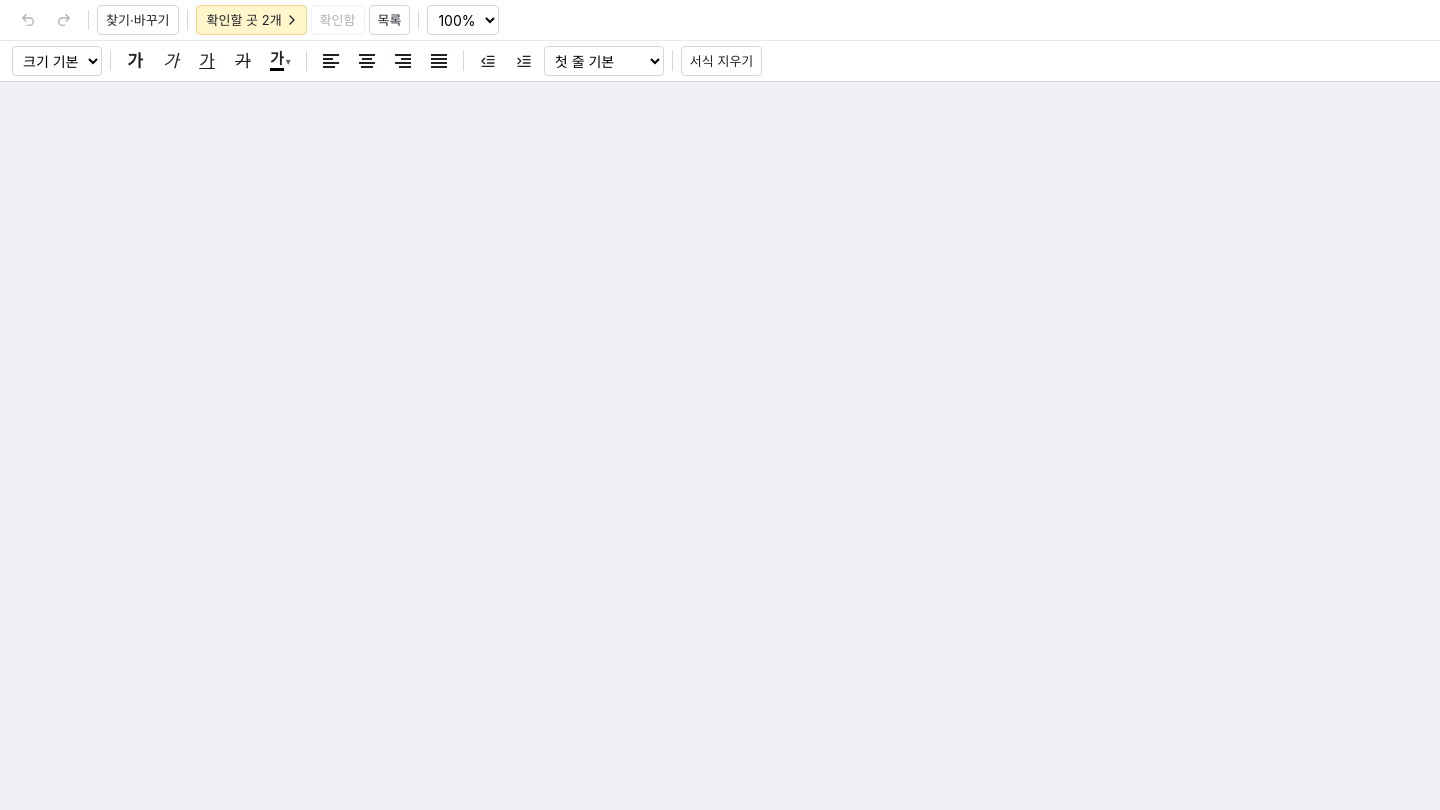
Test: 도구 막대: 확인할 곳 › 목록은 곳마다 문항 번호와 앞뒤 글을 보이고, 모두 확인함을 누르면 단추가 사라진다
Click the button "목록".
click(389, 20)  # box [368,5,410,35]
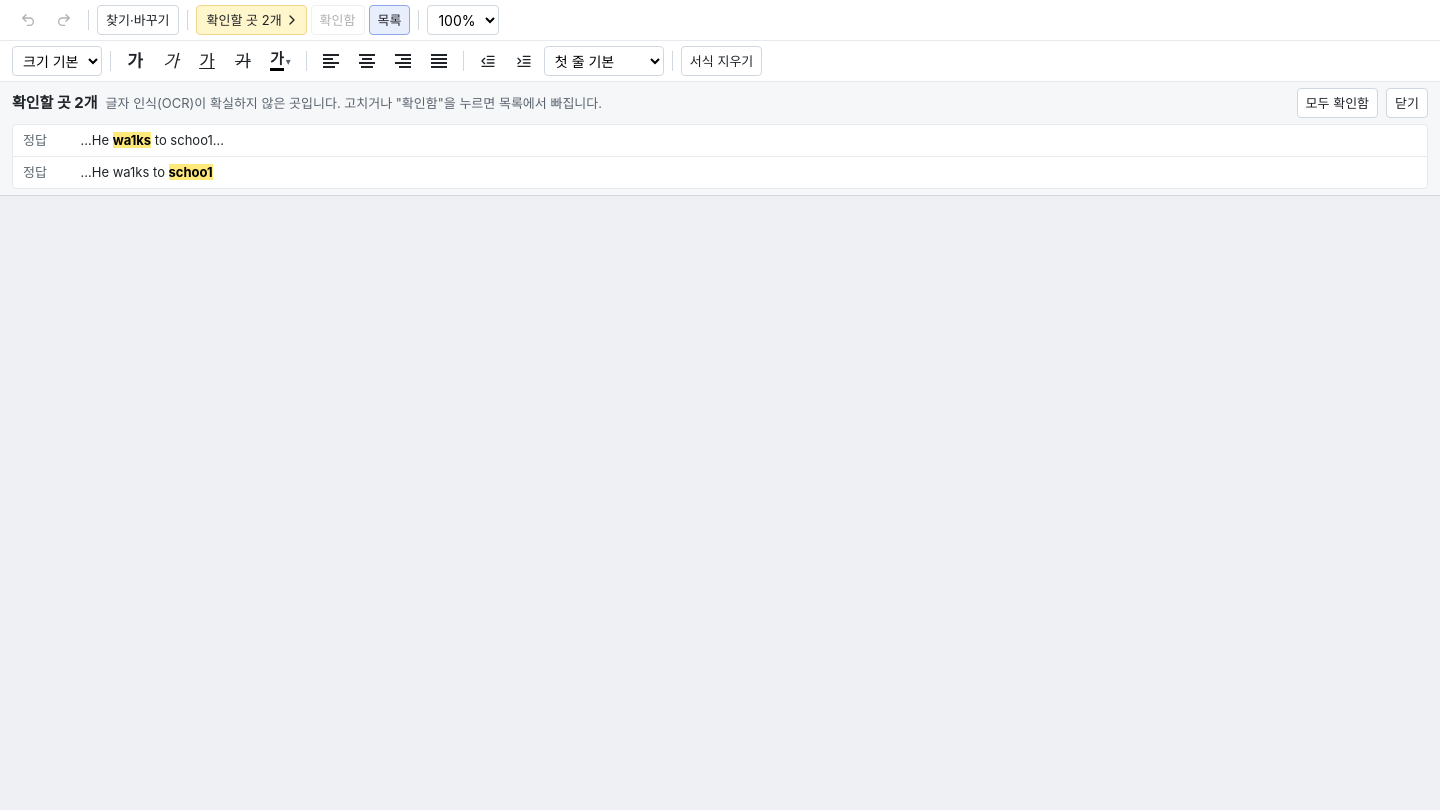
Expected: the text "wa1ks" is shown, [113,132,151,148]
Expected: the text "확인할 곳 2개" is shown, [12,91,98,115]
Click the button "모두 확인함".
click(1337, 103)  # box [1297,88,1378,118]
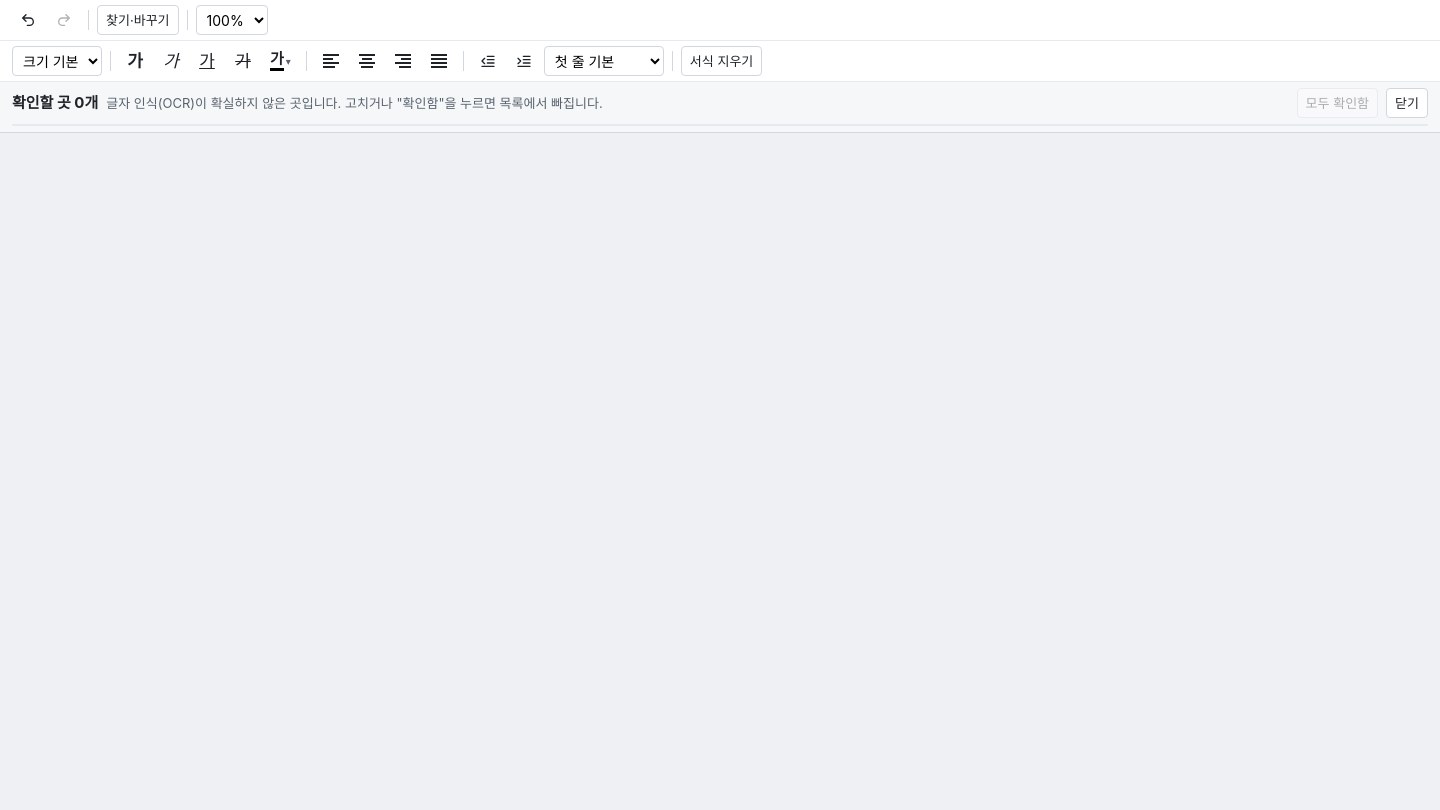
Expected: the button with class "check-next" is gone
Expected: no list items are shown
